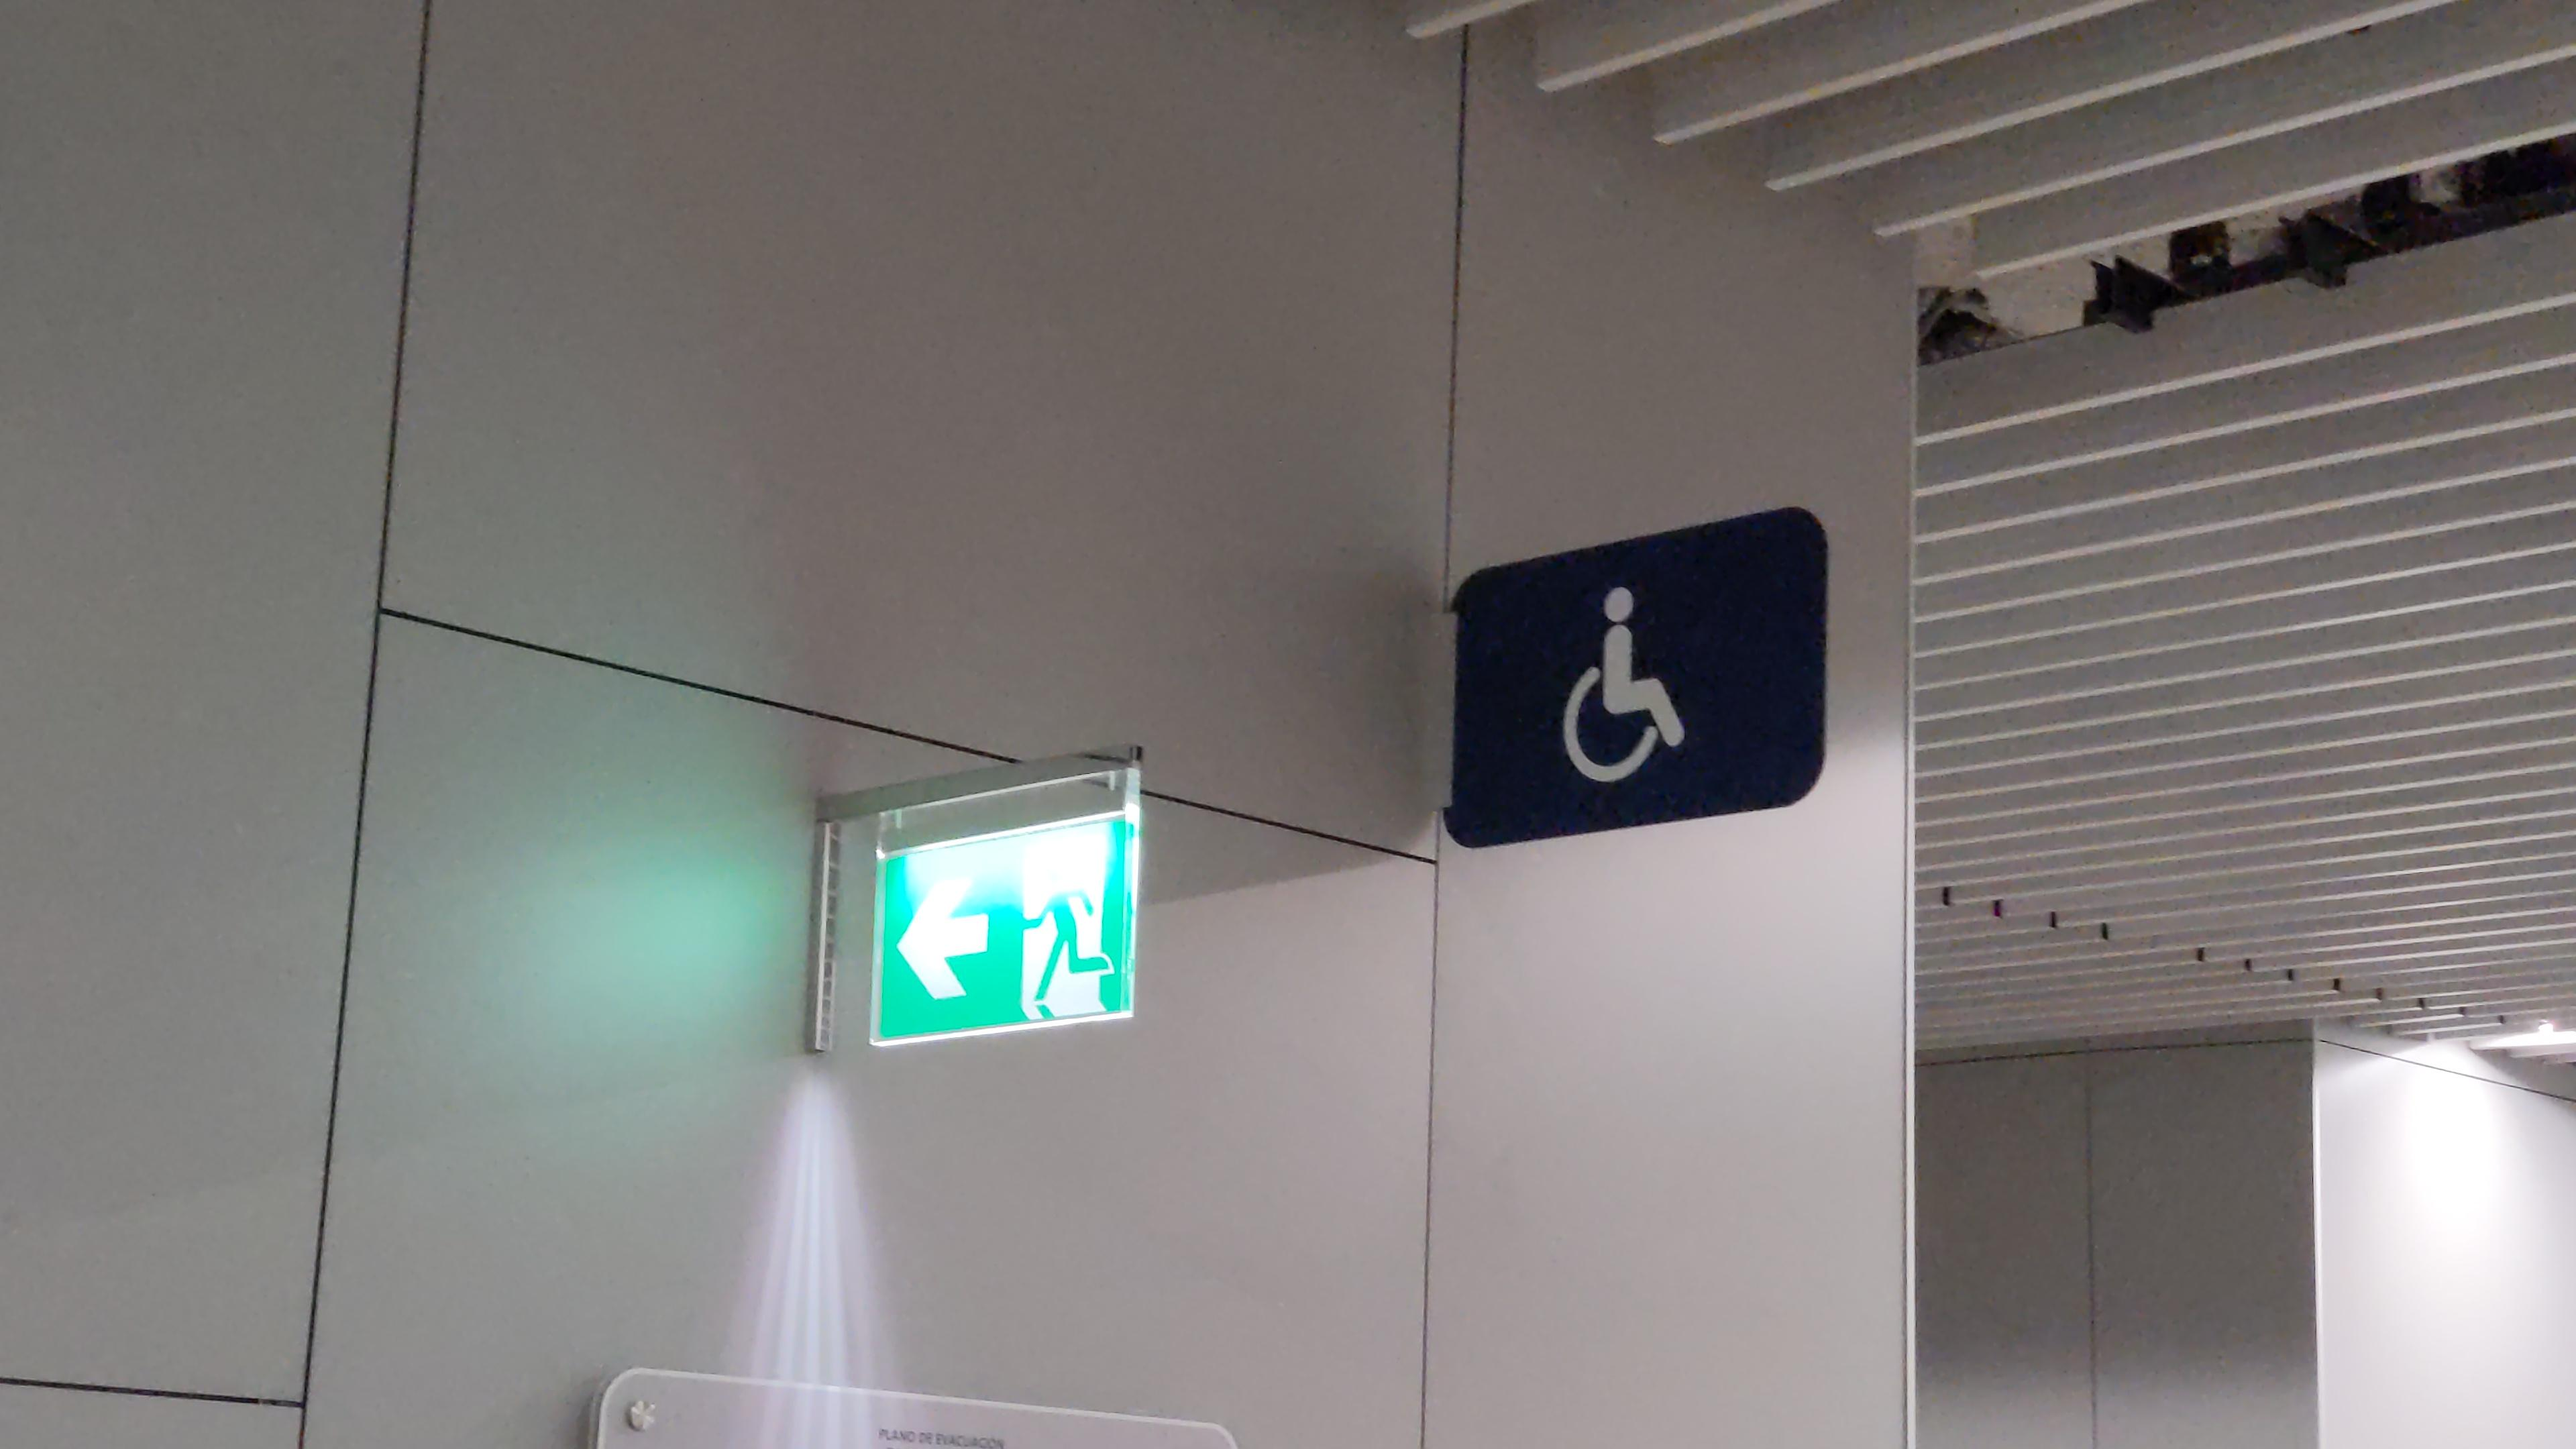emergency exit: (1012, 830, 1118, 1031)
handicapped symbol: (1536, 582, 1702, 786)
left arrow: (895, 858, 991, 1014)
